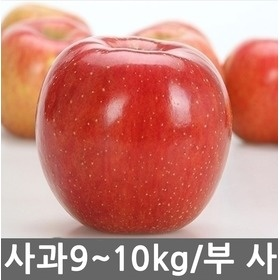apple: (39, 36, 229, 231), (1, 19, 89, 136), (222, 39, 280, 145)
